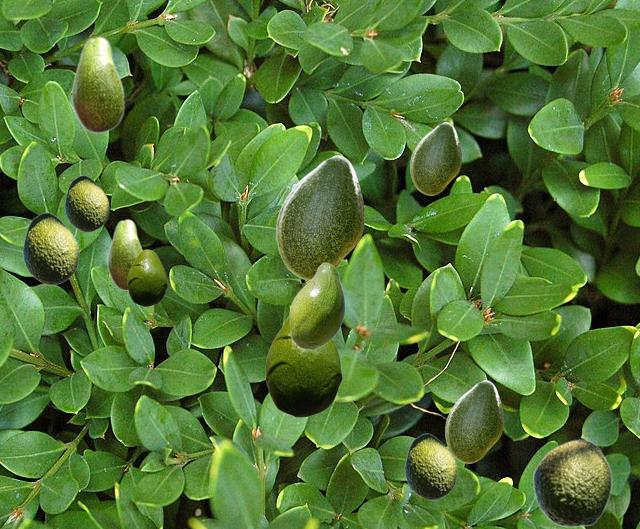avocado: (276, 155, 363, 279), (265, 315, 341, 416), (532, 439, 611, 526), (71, 35, 124, 133), (289, 262, 344, 349), (445, 380, 502, 462), (22, 212, 78, 284), (410, 122, 460, 194), (404, 433, 456, 499), (107, 218, 142, 290), (64, 175, 108, 231), (127, 249, 166, 305)
